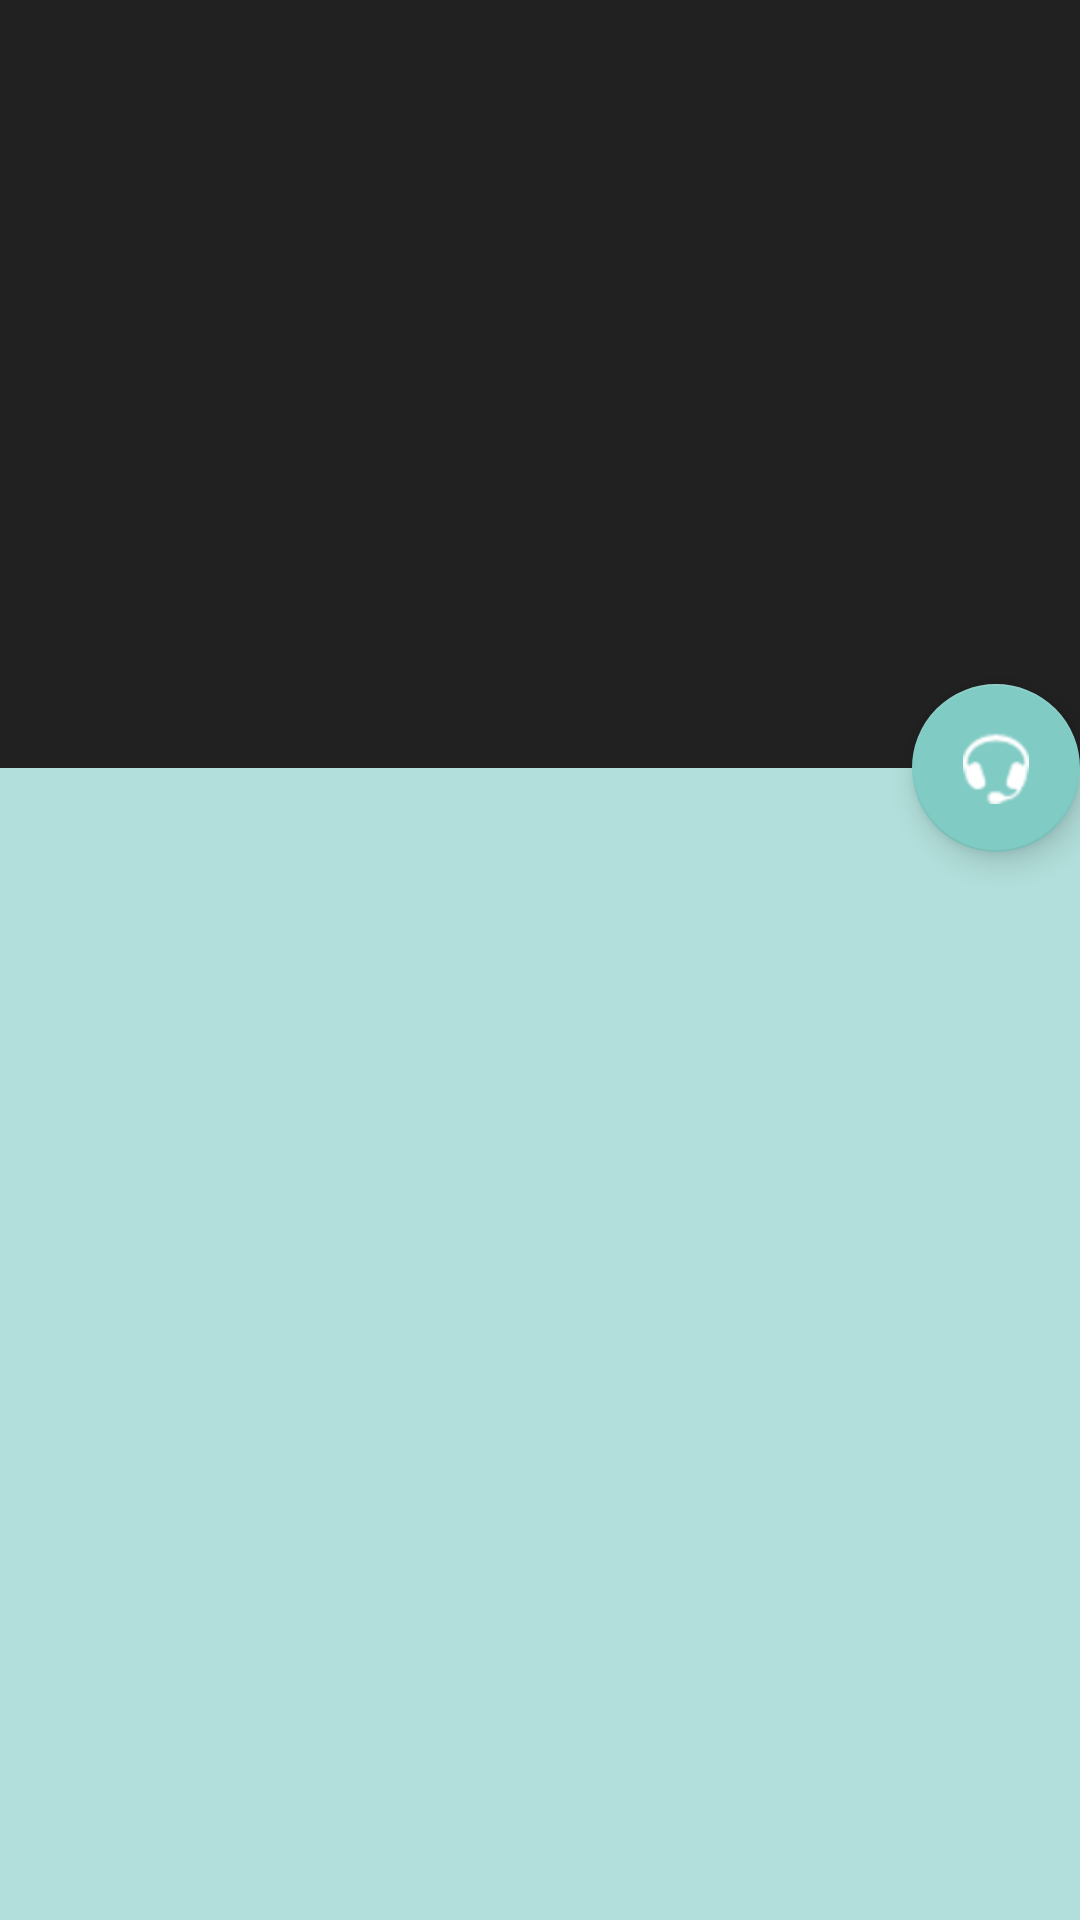

Point at icon controls on the screen. Image size 1080×1920, points as point (x, y).
headset: point (996, 768)
